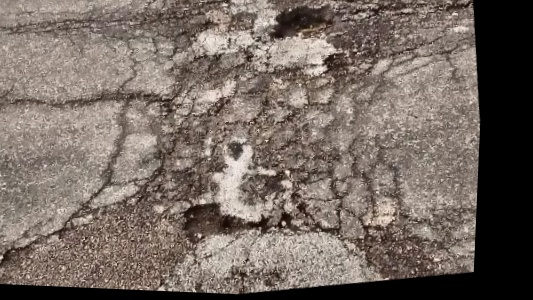pothole: (267, 0, 339, 45), (178, 196, 236, 248)
